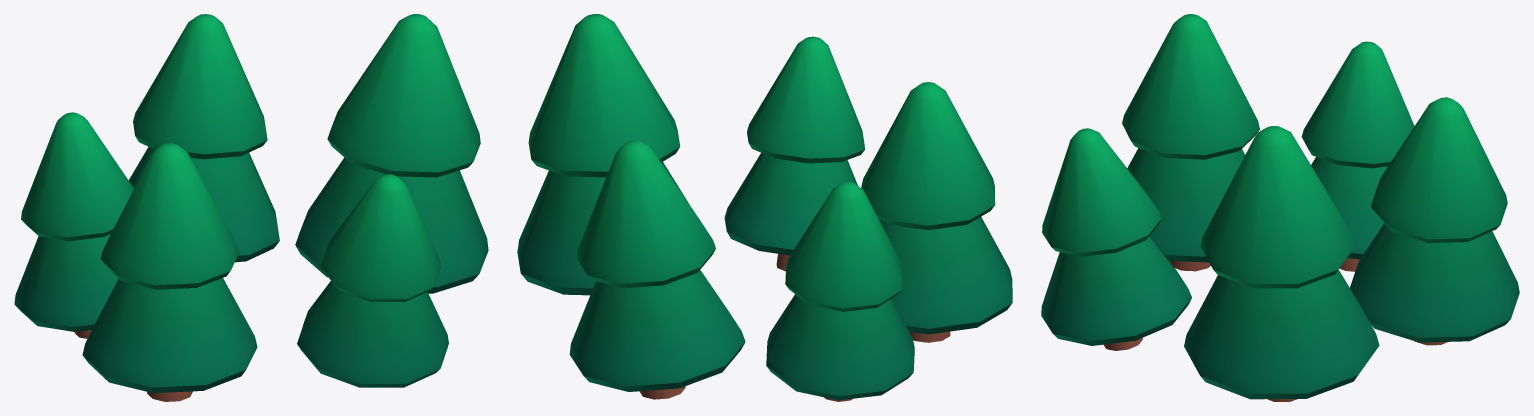
Rendered from d_kaykit_sapins.glb.
3 renders of one model, left to right at view 1: azimuth 30°, elevation 25°; view 2: azimuth 150°, elevation 25°; view 3: azimuth 270°, elevation 25°, orthographic.
Parts seen in each view (by area): view 1: d_kaykit_sapins; view 2: d_kaykit_sapins; view 3: d_kaykit_sapins.
Part boxes in pixels (box(x1,y1,x2,y2)): d_kaykit_sapins: box(14, 14, 488, 401); d_kaykit_sapins: box(517, 14, 1012, 401); d_kaykit_sapins: box(1041, 14, 1519, 401).
Bounding box in the file's own units: 1.86 × 1.17 × 1.83.
Materials: 1 (1 with a texture image).
